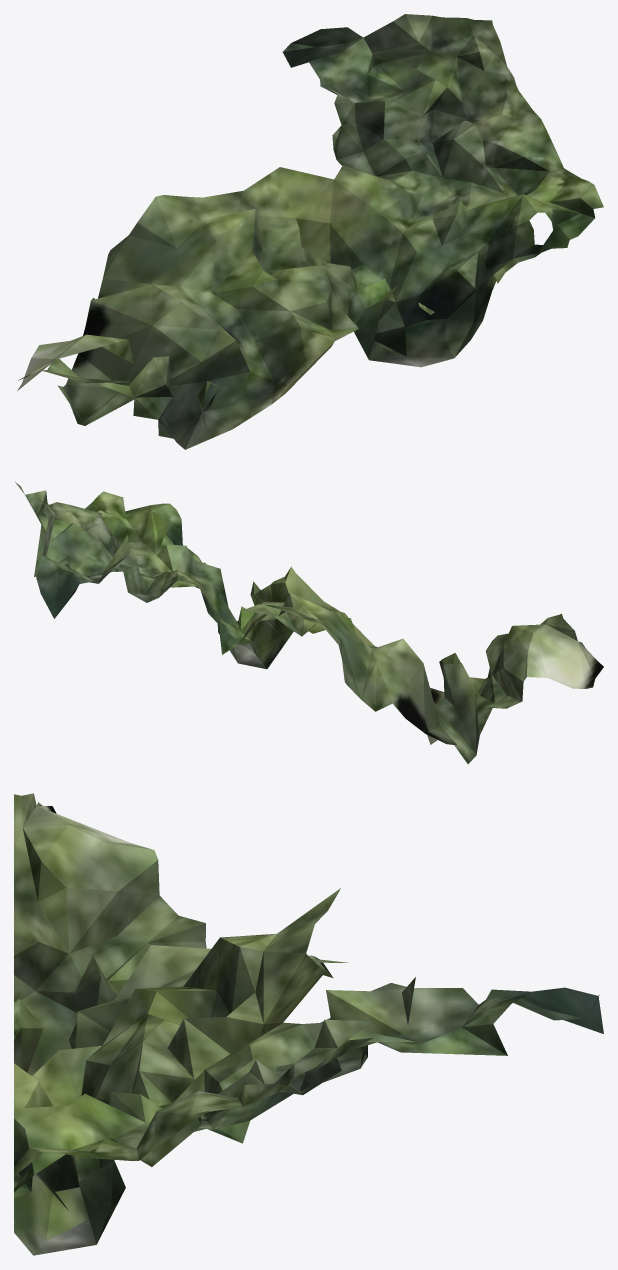
3 renders of one model, top to bottom at view 1: azimuth 30°, elevation 25°; view 2: azimuth 150°, elevation 25°; view 3: azimuth 270°, elevation 25°, orthographic. The views are drawn at different scales.
Bounding box in the file's own units: 240 × 107 × 137.
1 material, 1 textured.
